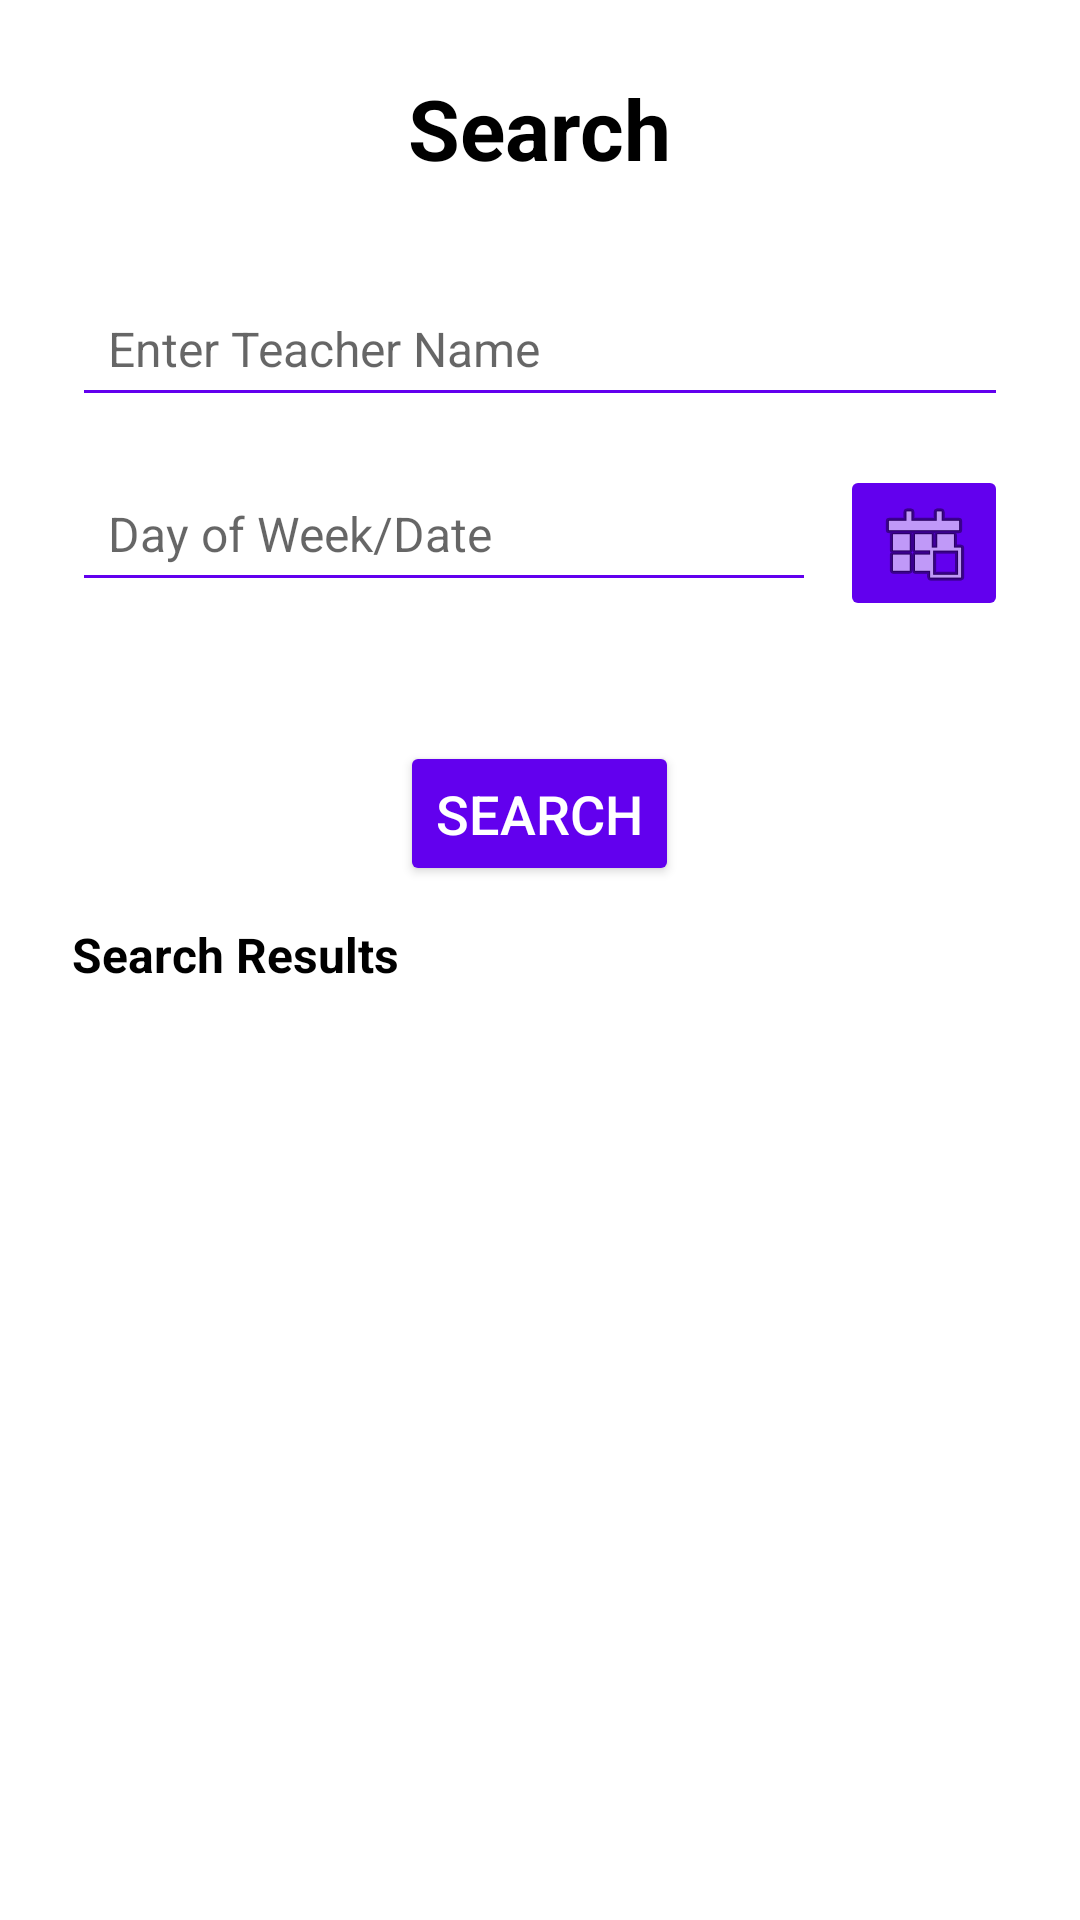

Where to tap for icons on this 1080 x 1920 app screen, as [x,y]:
Pick Date: [924,543]
